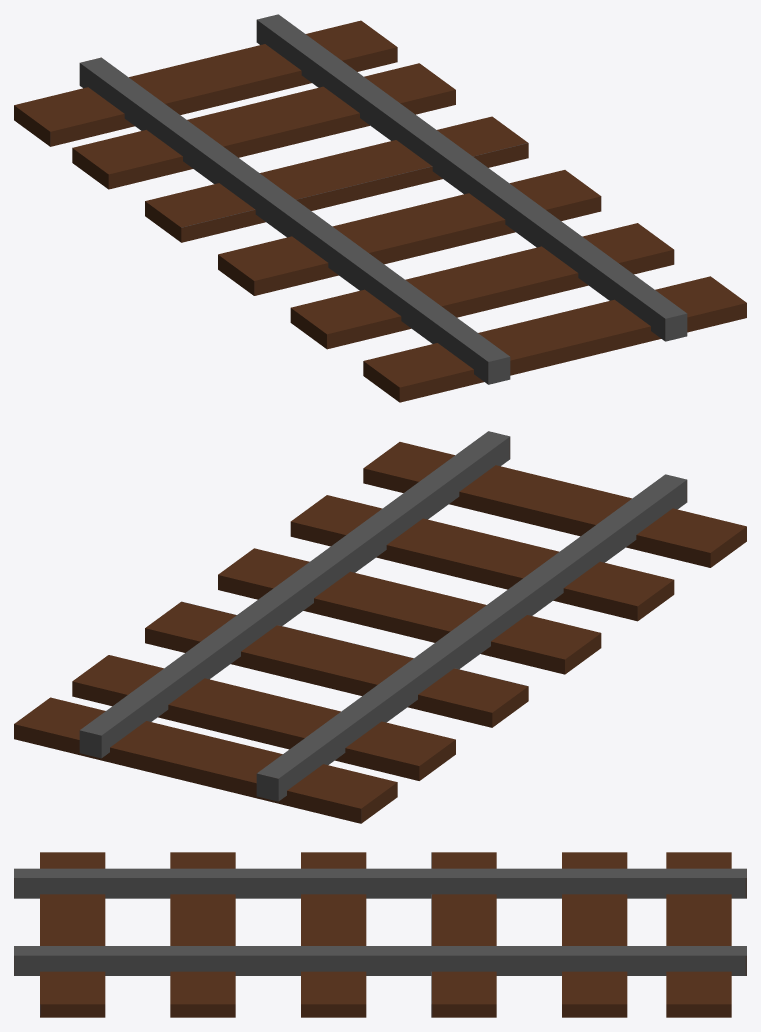
Rendered from Train_Tracks.glb.
3 renders of one model, top to bottom at view 1: azimuth 30°, elevation 25°; view 2: azimuth 150°, elevation 25°; view 3: azimuth 270°, elevation 25°, orthographic. The views are drawn at different scales.
Parts seen in each view (by area): view 1: Train_Tracks; view 2: Train_Tracks; view 3: Train_Tracks.
Boxes of the visible parts, x1=… form: Train_Tracks: x1=14, y1=14, x2=746, y2=402; Train_Tracks: x1=14, y1=431, x2=746, y2=823; Train_Tracks: x1=14, y1=852, x2=746, y2=1017.
Size of what is drawn, in the model's own units: 3.31 by 0.3017 by 6.74.
Materials: 1 (1 with a texture image).
